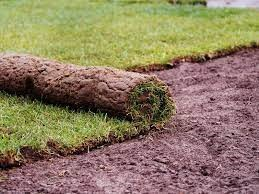dirt: (172, 45, 256, 192), (1, 133, 171, 192), (0, 54, 149, 115)
grass: (0, 0, 255, 64), (0, 95, 130, 149)
